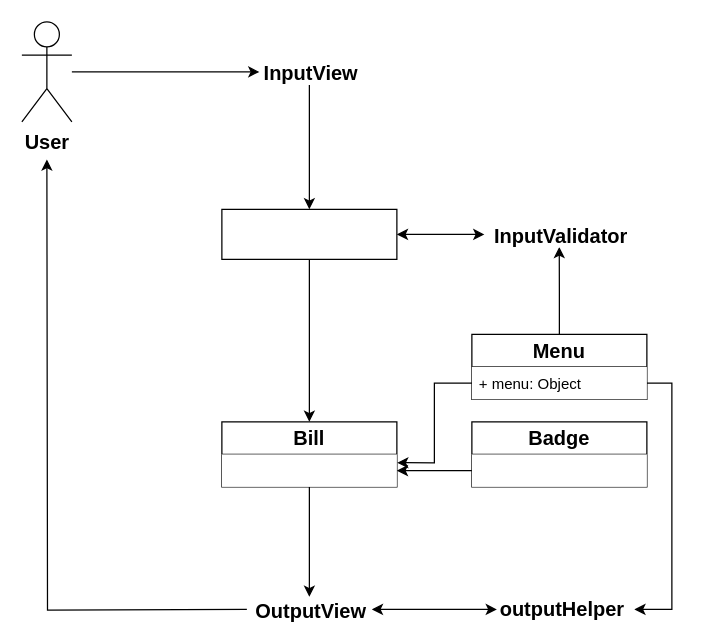
This 704x644 diagram has some shape labels left out. The centre of each missing label's shape, as x and y in pixels:
+ info: Object: (x=558, y=470)
+ result: Object: (x=308, y=470)
App: (x=309, y=233)
